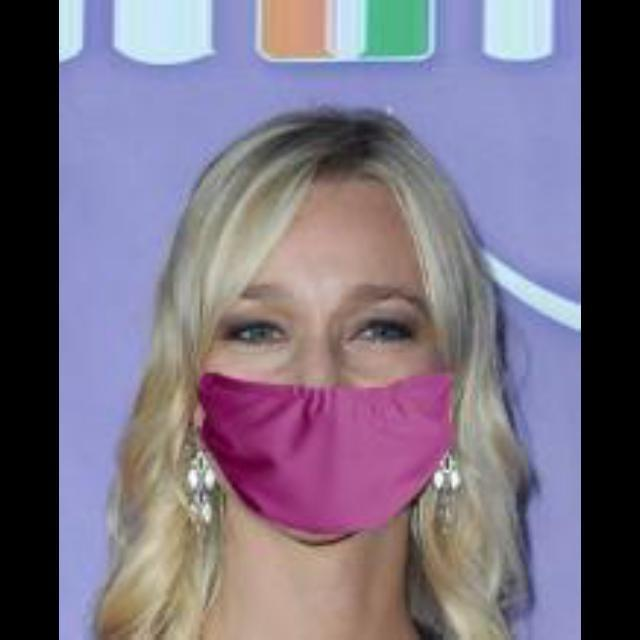suspicion: (184, 150, 462, 530)
